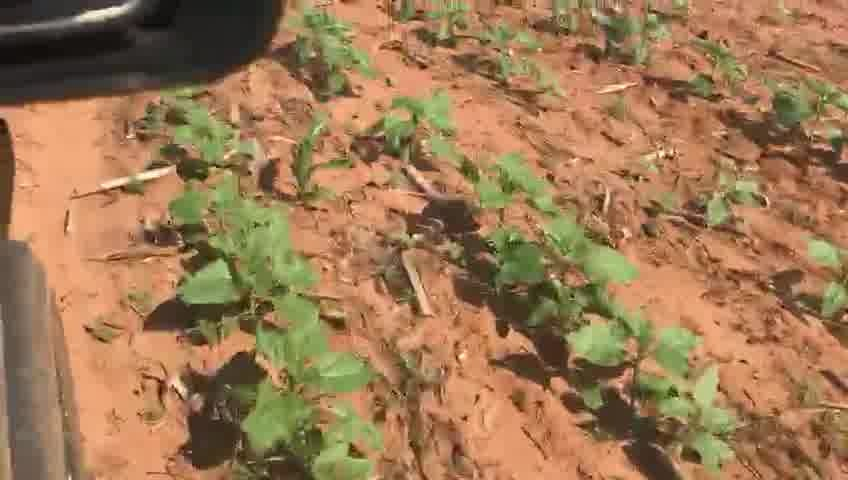sunflower: (166, 181, 326, 305), (488, 232, 642, 313), (237, 391, 377, 476), (256, 297, 371, 398), (558, 304, 704, 382), (642, 371, 742, 471), (471, 156, 574, 243), (388, 87, 460, 172), (297, 20, 369, 95)
